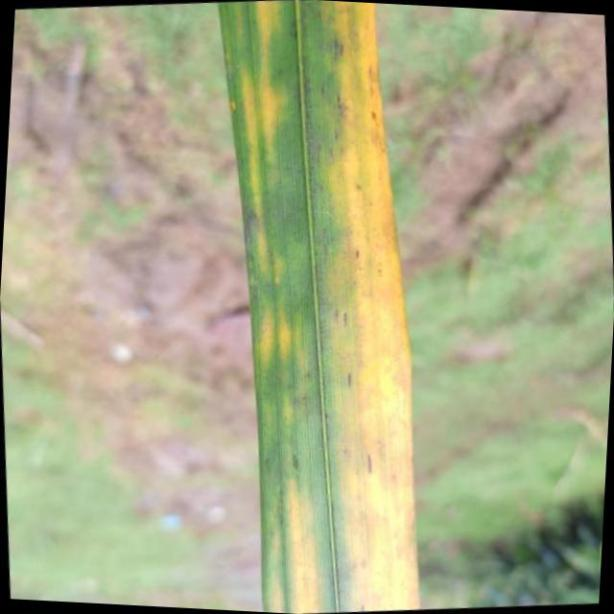Megnesium: (209, 0, 424, 614)
